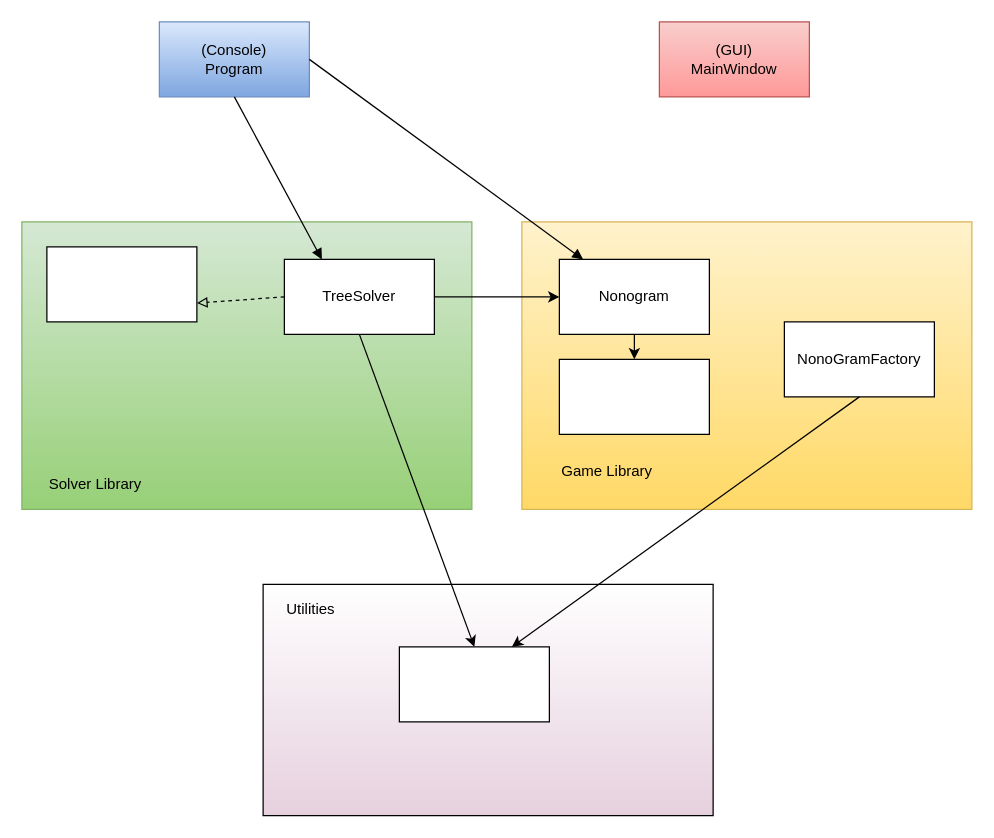
Some shapes in this 994 by 838 pixel diagram are drawn without their labels. Each missing label, with the centre of its shape:
"<<Interface>> Solver" belongs at (x=121, y=284).
"List" belongs at (x=473, y=684).
"Tile" belongs at (x=633, y=396).
